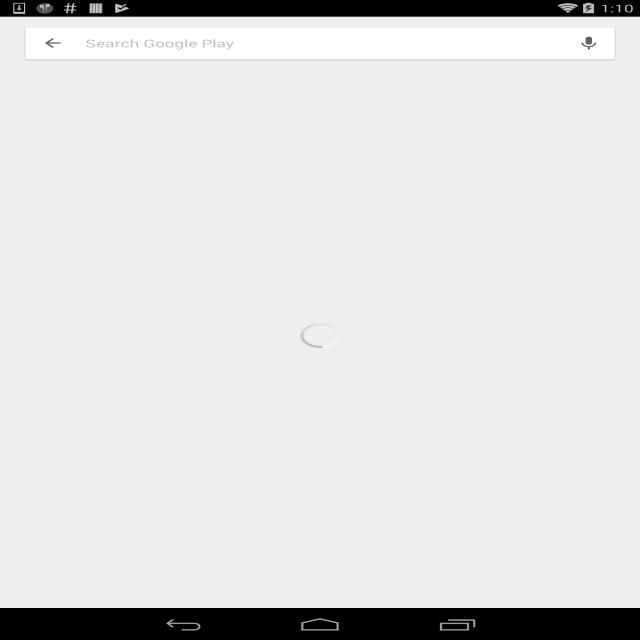Button: (222, 406, 316, 472), (324, 406, 418, 472), (426, 406, 520, 472), (222, 352, 409, 376), (427, 352, 614, 376)
ImageButton: (9, 17, 68, 59)
ImageView: (0, 59, 640, 254), (26, 270, 196, 377), (0, 550, 192, 640), (196, 550, 388, 640), (332, 406, 411, 455), (434, 406, 513, 455), (68, 30, 233, 46), (222, 312, 239, 323), (281, 464, 290, 469)
TextView: (0, 490, 640, 519), (0, 519, 640, 537), (222, 270, 614, 295), (25, 380, 166, 392), (580, 22, 632, 54), (324, 455, 418, 472), (426, 455, 520, 472), (120, 455, 213, 472), (526, 380, 614, 392), (245, 311, 316, 325), (144, 420, 188, 440), (250, 415, 288, 437), (222, 295, 281, 309), (133, 443, 200, 452), (247, 455, 278, 472)
